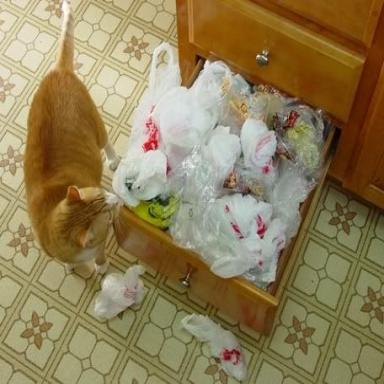plasticbag: (110, 36, 328, 281), (180, 311, 246, 380), (90, 264, 150, 320)
